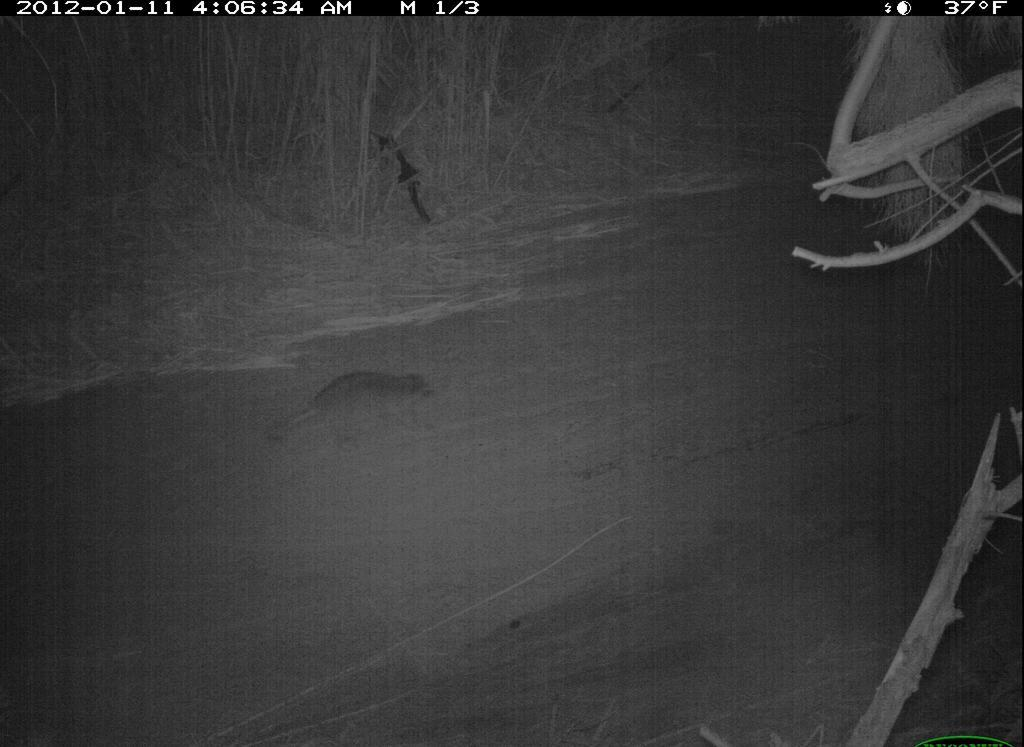raccoon: (260, 363, 437, 460)
